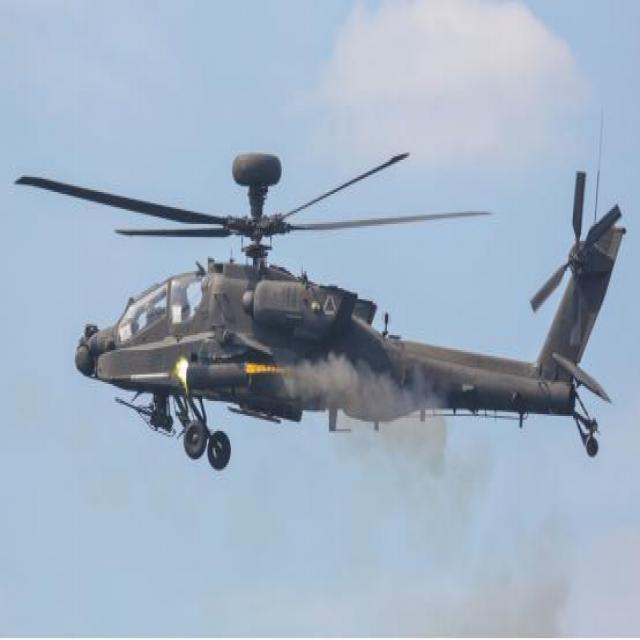MIL_HELO: (42, 130, 626, 500)
